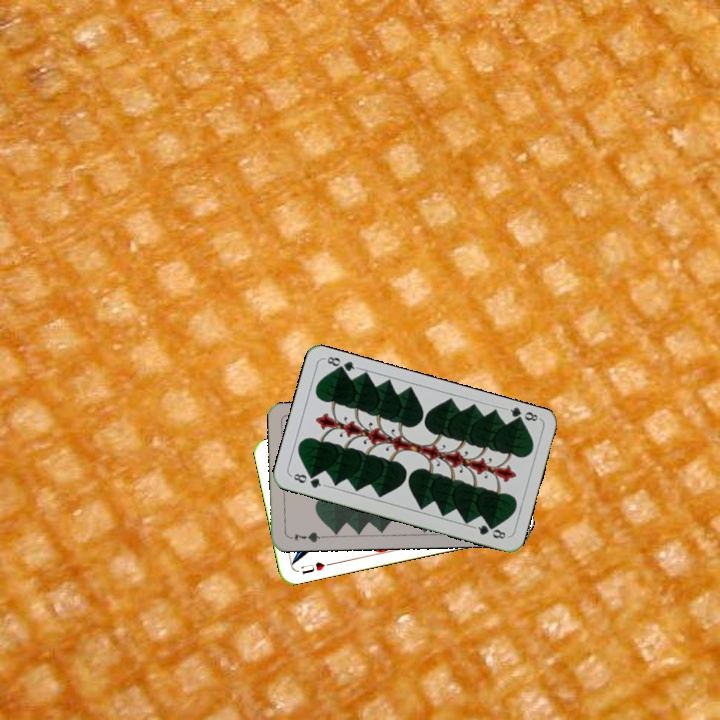G7: (285, 528, 326, 545)
G8: (502, 403, 542, 427), (287, 469, 327, 491)
HU: (297, 558, 327, 577)
